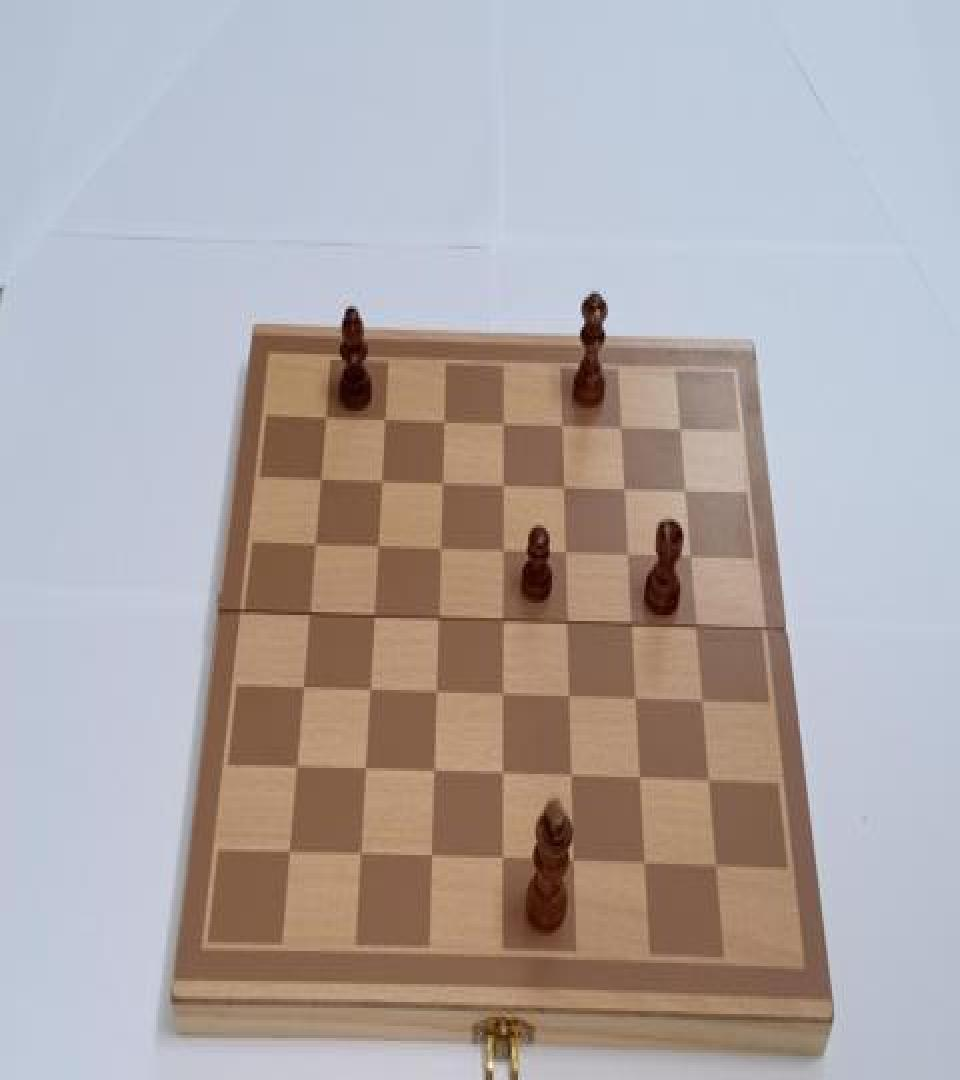xcorner: (310, 466, 328, 494), (374, 406, 392, 434), (356, 760, 374, 788), (616, 478, 634, 506), (671, 418, 689, 446), (315, 405, 333, 432), (304, 532, 322, 559), (298, 603, 316, 630), (292, 678, 310, 705), (279, 843, 297, 870), (371, 470, 389, 497), (364, 604, 382, 631), (352, 846, 370, 873), (432, 471, 450, 498), (431, 537, 449, 564), (428, 683, 446, 710), (426, 762, 444, 789), (493, 411, 511, 438), (494, 474, 512, 501), (494, 540, 512, 567), (494, 610, 512, 637), (495, 684, 513, 711), (495, 765, 513, 792), (496, 851, 514, 878), (553, 414, 571, 441), (559, 612, 577, 639), (562, 687, 580, 714), (565, 766, 583, 793), (568, 852, 586, 879), (612, 417, 630, 444), (620, 545, 638, 572), (624, 615, 642, 642), (629, 689, 647, 716), (639, 855, 657, 882), (676, 480, 694, 507), (682, 546, 700, 573), (689, 617, 707, 644), (703, 771, 721, 798), (711, 857, 729, 884), (286, 758, 304, 784), (368, 536, 386, 562), (360, 680, 378, 706), (434, 410, 452, 436), (429, 608, 447, 634), (424, 848, 442, 874), (555, 476, 573, 502), (557, 542, 575, 568), (634, 770, 652, 796), (696, 692, 714, 718)
